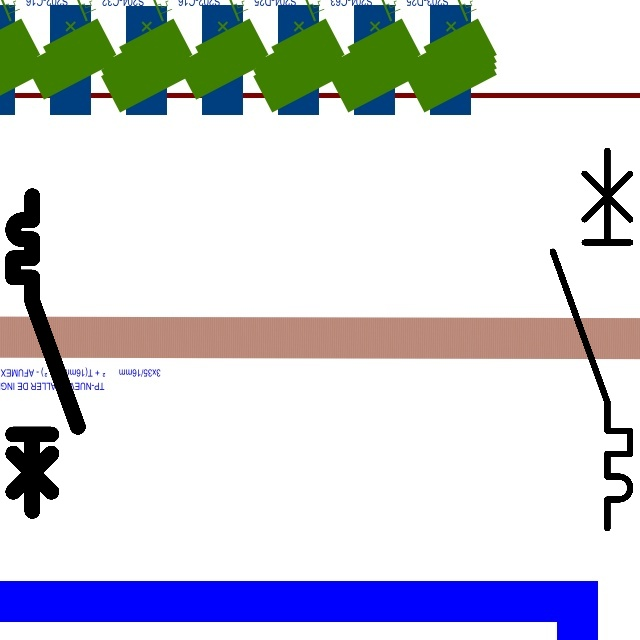interruptor_termomagnetico: (543, 141, 640, 538), (5, 188, 86, 519)
